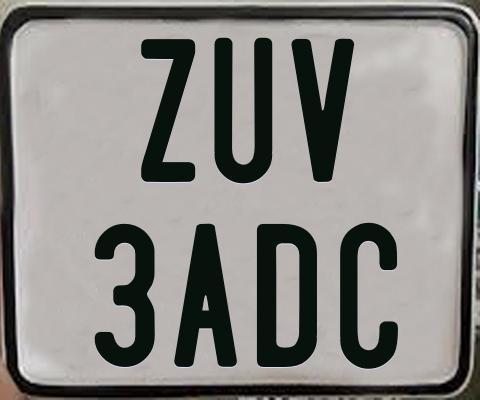3: (94, 221, 158, 369)
A: (173, 222, 238, 366)
C: (340, 222, 399, 373)
D: (255, 223, 318, 371)
U: (214, 38, 273, 189)
V: (290, 38, 357, 187)
Z: (140, 36, 198, 179)
